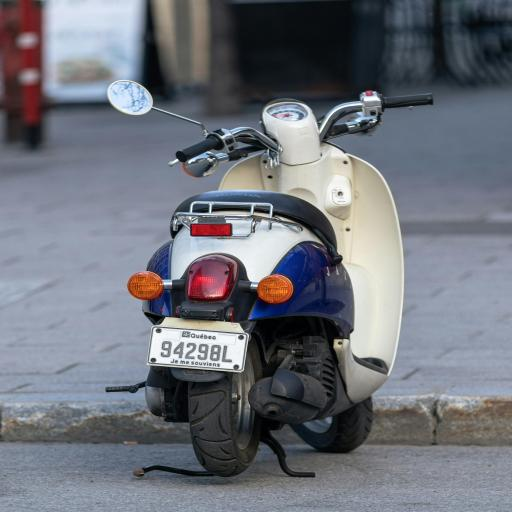place: (146, 326, 236, 366)
